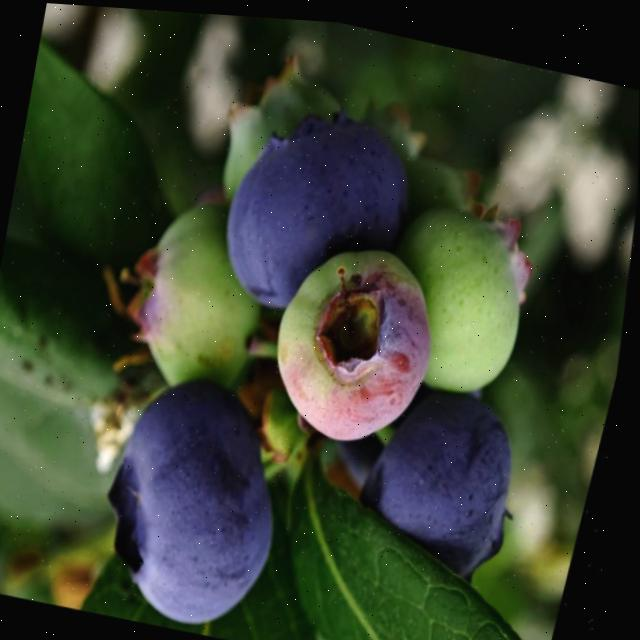RipeBlueBerry: (81, 354, 320, 640)
Semi-RipeBlueBerry: (251, 214, 467, 467)
